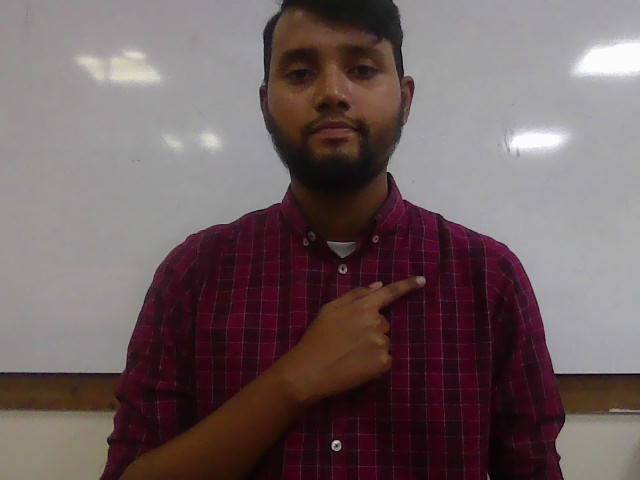Ami: (284, 275, 428, 406)
